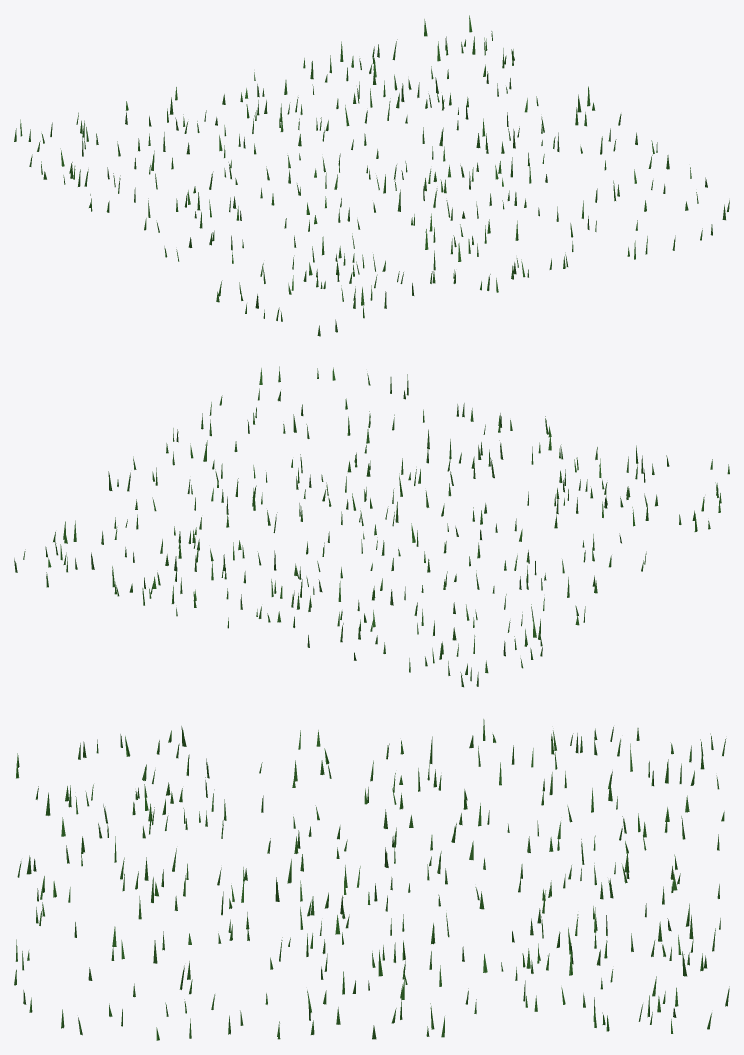
File: Hospital_SITE_GrassRuntimeAssets_R05B.fbx
3 views of the same model, one above another, from view 1: azimuth 30°, elevation 25°; view 2: azimuth 150°, elevation 25°; view 3: azimuth 270°, elevation 25° (orthographic). The views are drawn at different scales.
Parts seen in each view (by area): view 1: S05S_S5B_RUNTIME_GrassPatch_LOD0; view 2: S05S_S5B_RUNTIME_GrassPatch_LOD0; view 3: S05S_S5B_RUNTIME_GrassPatch_LOD0.
Part boxes in pixels (box(x1,y1,x2,y2)): S05S_S5B_RUNTIME_GrassPatch_LOD0: box(14, 15, 729, 336); S05S_S5B_RUNTIME_GrassPatch_LOD0: box(14, 366, 729, 687); S05S_S5B_RUNTIME_GrassPatch_LOD0: box(14, 719, 729, 1040).
Size of what is drawn, in the model's own units: 1.99 by 0.0879 by 2.
